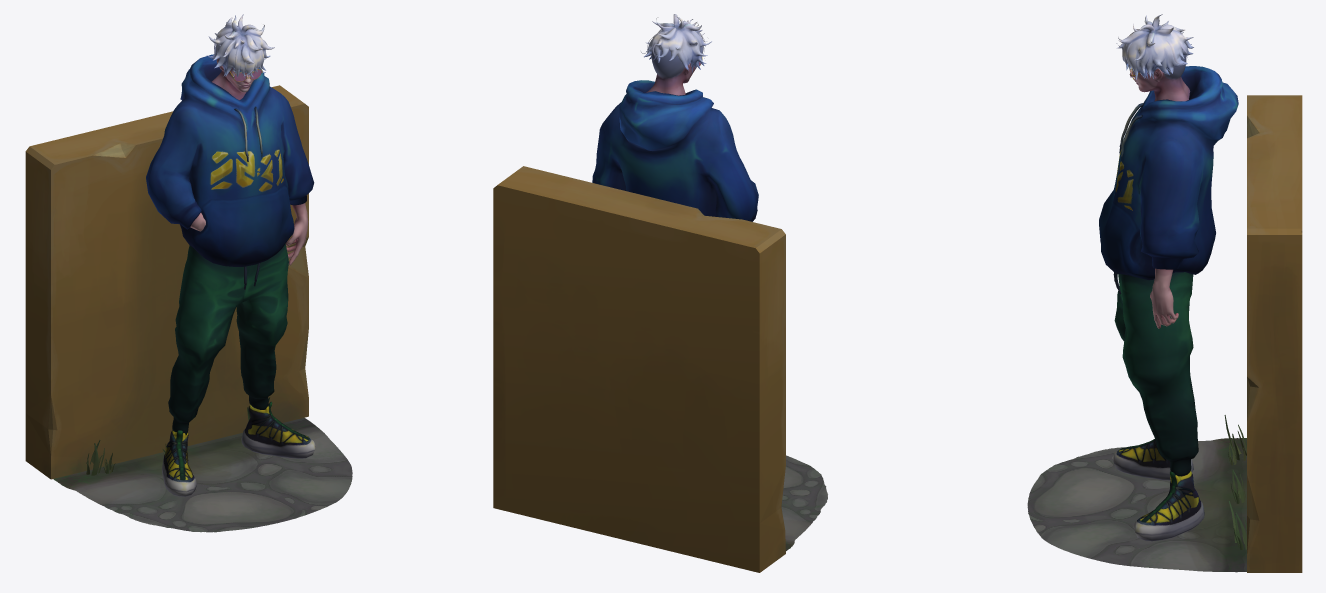
File: Satoru_Pose_06_Render.fbx
The picture shows the model from 3 angles, left to right: view 1: azimuth 30°, elevation 25°; view 2: azimuth 150°, elevation 25°; view 3: azimuth 270°, elevation 25°; orthographic projection. The views are drawn at different scales.
Parts seen in each view (by area): view 1: Back, HoodieLP.001, PantsLP.001, SneakersLP.001, HairsLP.001, Hands.001, BodyMain.001; view 2: Back, HoodieLP.001, HairsLP.001, BodyMain.001; view 3: Back, HoodieLP.001, PantsLP.001, SneakersLP.001, HairsLP.001, BodyMain.001, Hands.001.
Part boxes in pixels (box(x1,y1,x2,y2)): Back: box(25, 85, 352, 532); HoodieLP.001: box(146, 54, 314, 266); PantsLP.001: box(168, 244, 288, 435); SneakersLP.001: box(162, 401, 315, 496); HairsLP.001: box(208, 14, 274, 77); Hands.001: box(190, 203, 308, 265); BodyMain.001: box(211, 58, 258, 99); Back: box(493, 166, 827, 572); HoodieLP.001: box(592, 80, 758, 221); HairsLP.001: box(644, 14, 711, 72); BodyMain.001: box(646, 48, 696, 95); Back: box(1027, 95, 1302, 572); HoodieLP.001: box(1099, 66, 1238, 280); PantsLP.001: box(1114, 272, 1198, 476); SneakersLP.001: box(1112, 439, 1204, 541); HairsLP.001: box(1116, 14, 1193, 79); BodyMain.001: box(1129, 54, 1190, 101); Hands.001: box(1150, 268, 1178, 328).
Bounding box in the file's own units: 8.99 × 14.39 × 9.17.
